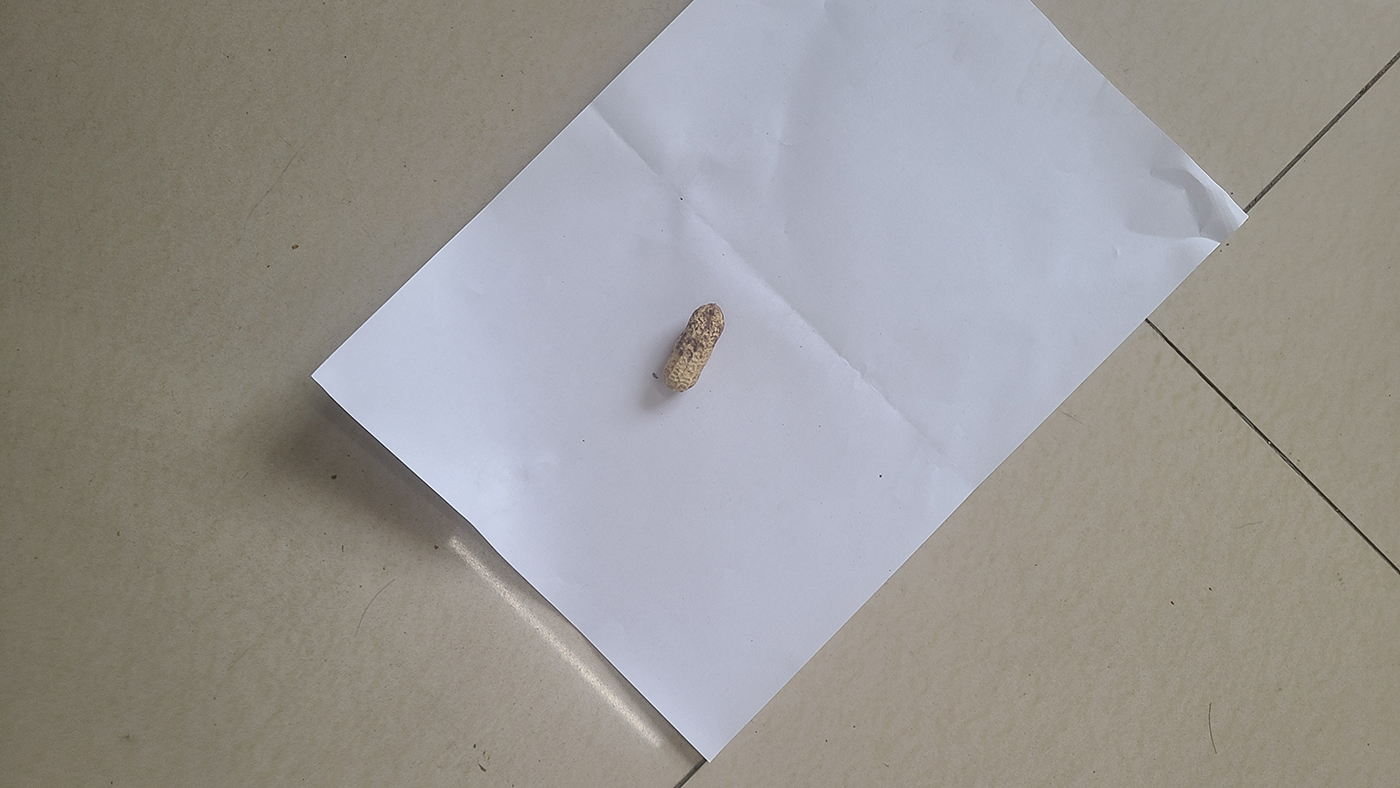h: (663, 301, 726, 391)
